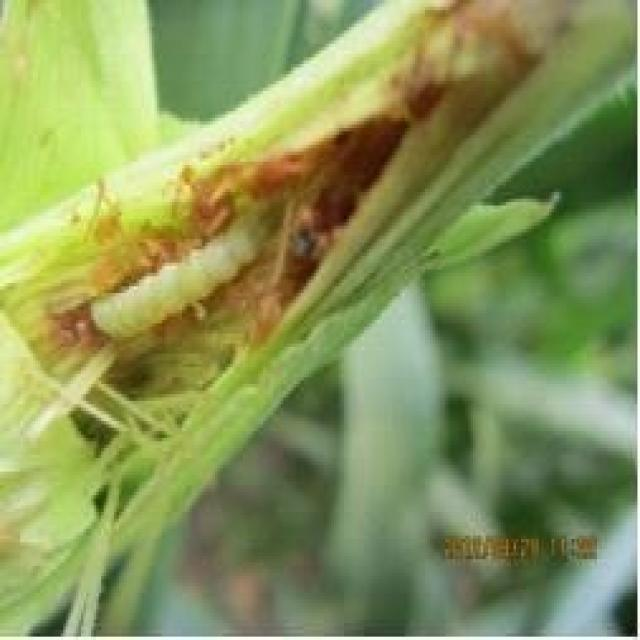peach borer: (81, 213, 270, 341)
